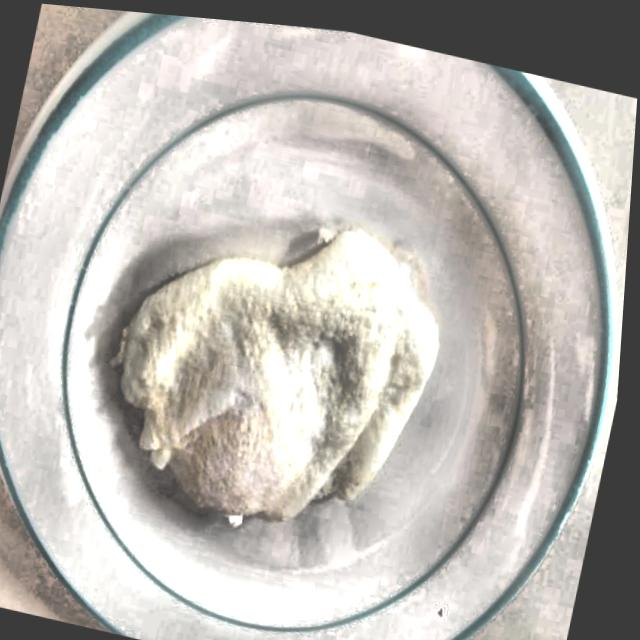Food: (74, 154, 490, 573)
